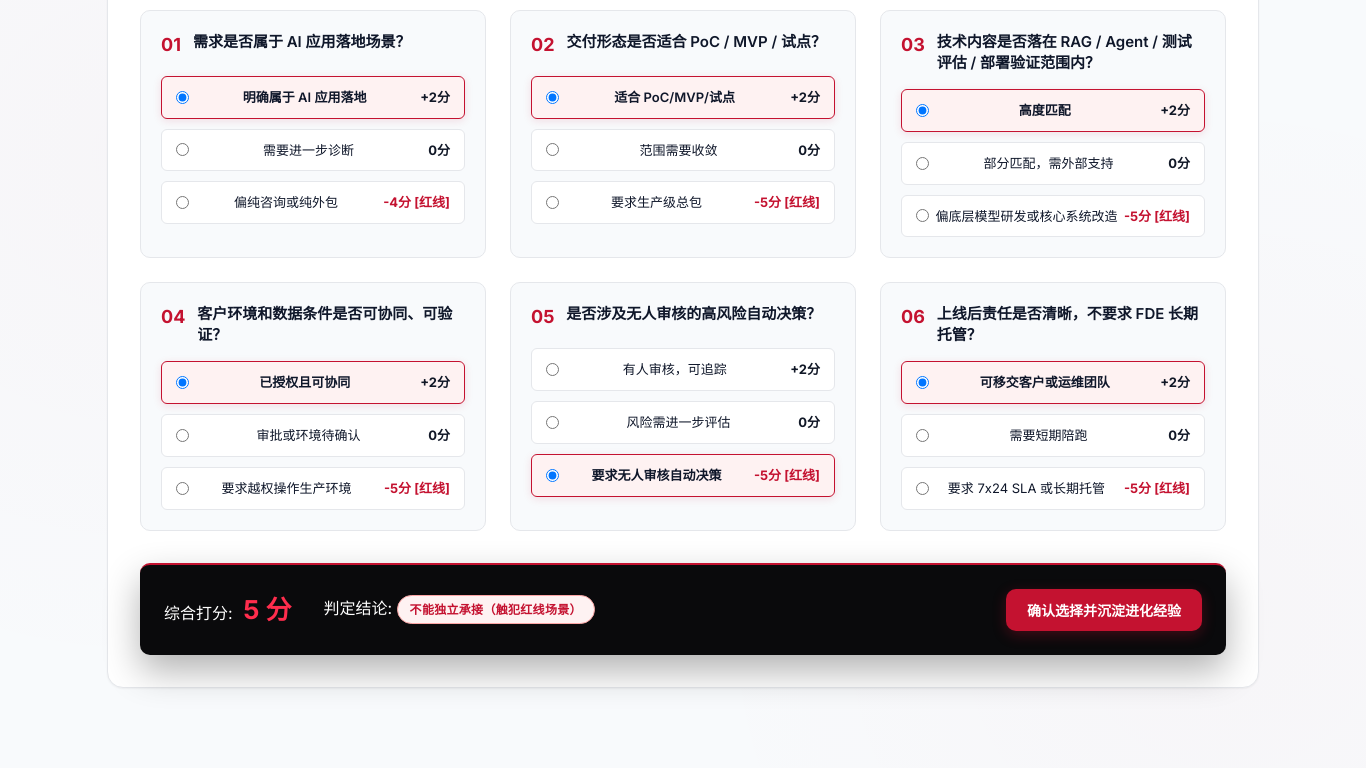
Test: DecisionMatrix › applies AI decisions and lets a case submit confirmations
(page scrolled)
Click the button "确认选择并沉淀进化经验".
click(1104, 610)  # box [1006,589,1202,631]
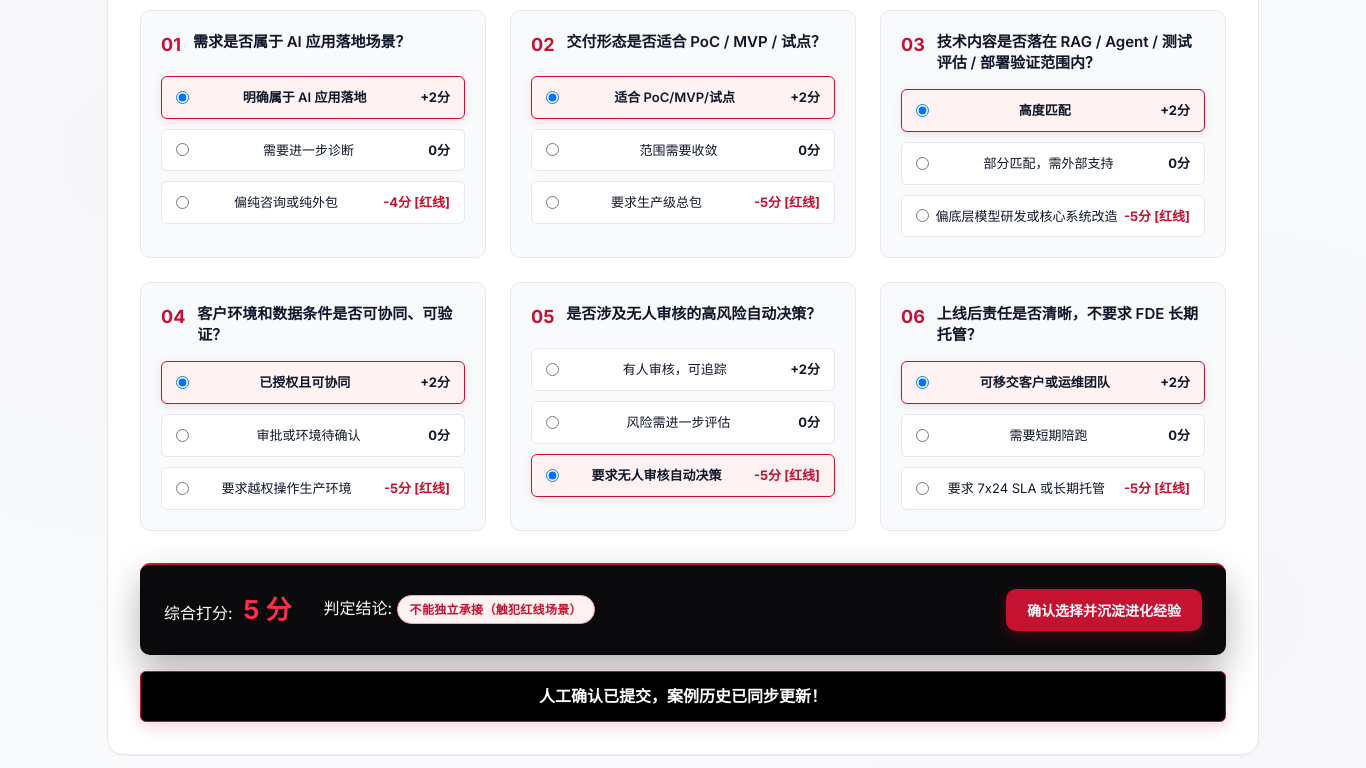
Expected: the text "人工确认已提交，案例历史已同步更新！" is shown, [140,671,1226,722]
